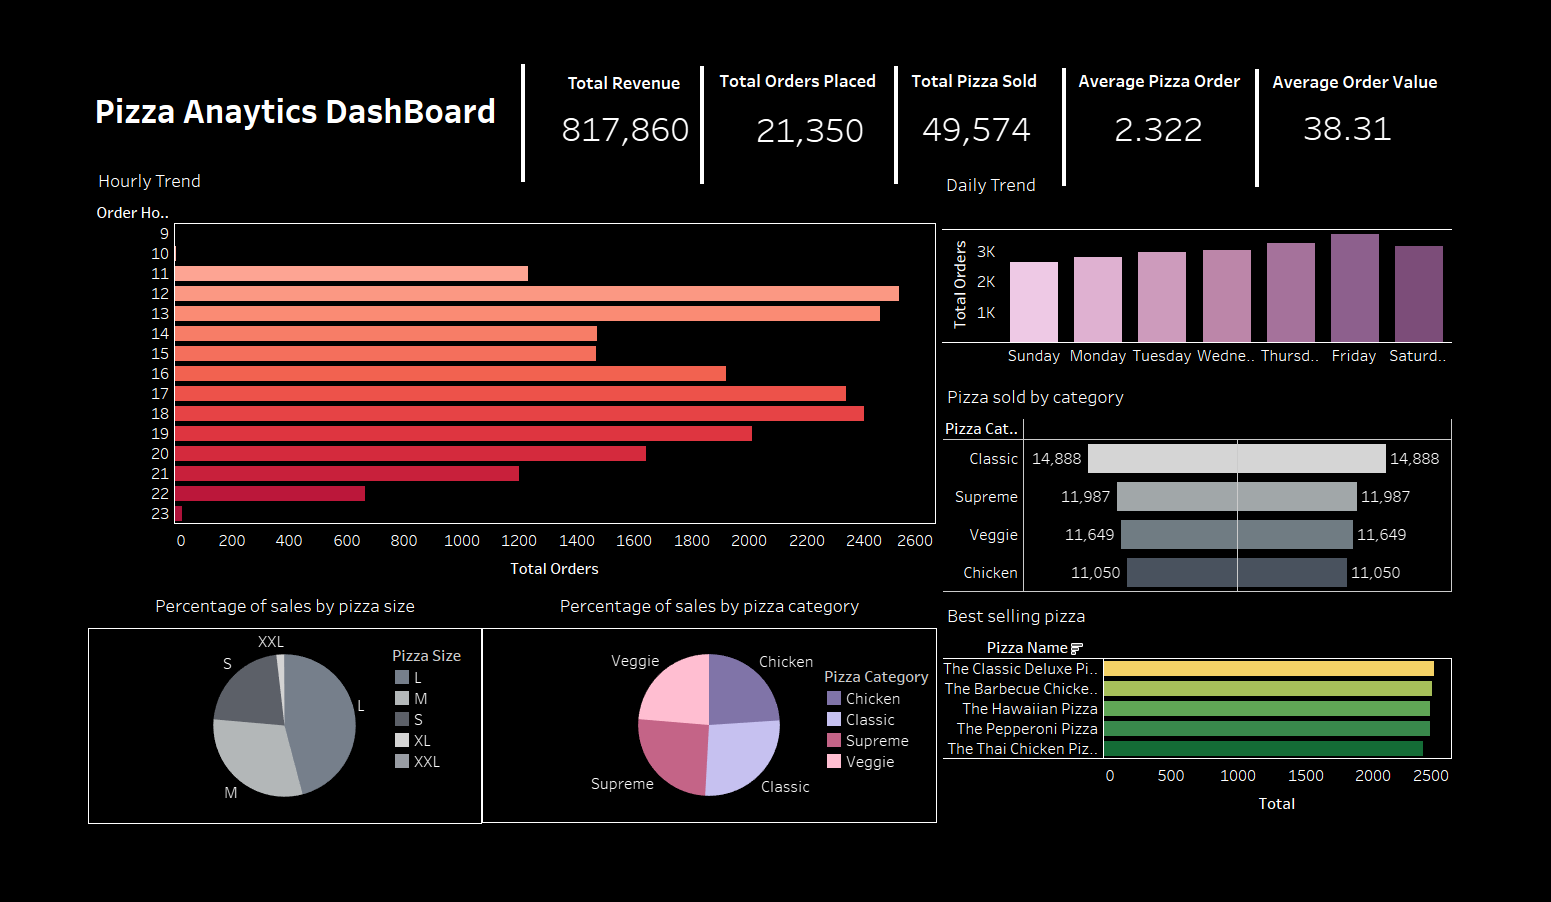

The page's visual inventory and layout, read from the dashboard file:
{"tool":"tableau","page":{"name":"Dashboard 1","canvas":[1366,768],"ordinal":0},"visuals":[{"type":"text","box":[4,2,437,106]},{"type":"blank","box":[434,9,4,118]},{"type":"text","box":[629,10,164,30]},{"type":"text","box":[821,10,133,30]},{"type":"text","box":[988,10,169,30]},{"type":"worksheet","title":"Total Revenue","mark":"Automatic","box":[467,11,158,122]},{"type":"blank","box":[613,11,4,118]},{"type":"blank","box":[807,11,4,118]},{"type":"text","box":[1182,11,172,30]},{"type":"blank","box":[975,13,4,118]},{"type":"blank","box":[1168,14,4,118]},{"type":"worksheet","title":"Average Order Value","mark":"Automatic","box":[1209,49,132,77]},{"type":"worksheet","title":"Total Pizza Sold","mark":"Automatic","box":[828,50,173,71]},{"type":"worksheet","title":"Average Pizza Order","mark":"Automatic","box":[1020,50,146,48]},{"type":"worksheet","title":"Orders placed","mark":"Automatic","box":[652,51,139,63]},{"type":"worksheet","title":"Hourly Trend","mark":"Automatic","rows":["order_hour"],"cols":["total_orders"],"box":[7,109,842,425]},{"type":"worksheet","title":"Daily Trend","mark":"Automatic","rows":["total_orders"],"cols":["order_day"],"box":[855,113,510,200]},{"type":"worksheet","title":"Pizza sold by category","mark":"Automatic","rows":["pizza_category"],"cols":["total","total"],"box":[856,325,510,224]},{"type":"worksheet","title":"Percentage of sales by pizza size","mark":"Pie","box":[1,534,394,235]},{"type":"worksheet","title":"Percentage of sales by pizza category","mark":"Pie","box":[395,534,455,234]},{"type":"worksheet","title":"Best selling pizza","mark":"Automatic","rows":["pizza_name"],"cols":["total"],"box":[856,544,509,224]},{"type":"legend","title":"Percentage of sales by pizza size","param":"[federated.019xwja1pzebgl1fhyxup089sm81].[none:pizza_size:nk]","box":[305,590,74,127]},{"type":"legend","title":"Percentage of sales by pizza category","param":"[federated.00gce9m0nv9wak18i92011dh0hk5].[none:pizza_category:nk]","box":[737,611,110,106]}]}

Visuals, with their boxes on the page's 1366x768 design canvas (x1, y1, x2, y2). These are canvas units, not pixel positions in the 1551x902 screenshot, which may show the page scaled, cropped or inside an application window:
text: region(4, 2, 441, 108)
blank: region(434, 9, 438, 127)
text: region(629, 10, 793, 40)
text: region(821, 10, 954, 40)
text: region(988, 10, 1157, 40)
"Total Revenue" worksheet: region(467, 11, 625, 133)
blank: region(613, 11, 617, 129)
blank: region(807, 11, 811, 129)
text: region(1182, 11, 1354, 41)
blank: region(975, 13, 979, 131)
blank: region(1168, 14, 1172, 132)
"Average Order Value" worksheet: region(1209, 49, 1341, 126)
"Total Pizza Sold" worksheet: region(828, 50, 1001, 121)
"Average Pizza Order" worksheet: region(1020, 50, 1166, 98)
"Orders placed" worksheet: region(652, 51, 791, 114)
"Hourly Trend" worksheet: region(7, 109, 849, 534)
"Daily Trend" worksheet: region(855, 113, 1365, 313)
"Pizza sold by category" worksheet: region(856, 325, 1366, 549)
"Percentage of sales by pizza size" worksheet (Pie marks): region(1, 534, 395, 769)
"Percentage of sales by pizza category" worksheet (Pie marks): region(395, 534, 850, 768)
"Best selling pizza" worksheet: region(856, 544, 1365, 768)
"Percentage of sales by pizza size" legend: region(305, 590, 379, 717)
"Percentage of sales by pizza category" legend: region(737, 611, 847, 717)
